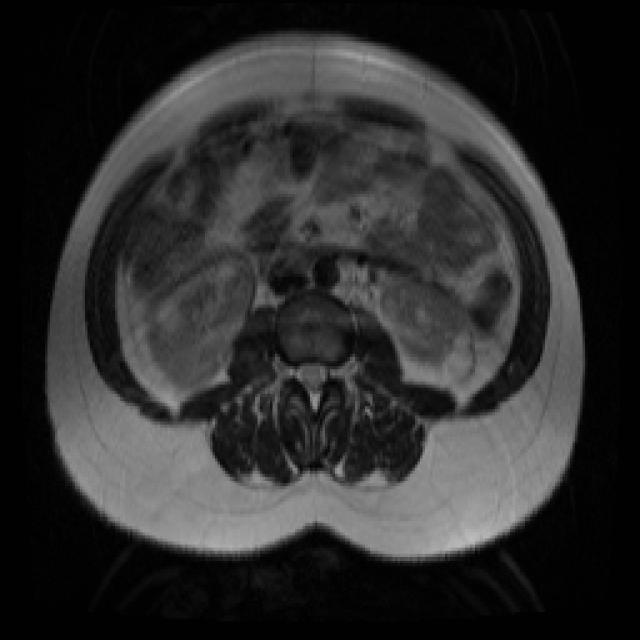sag: (148, 246, 254, 393)
sol: (375, 263, 474, 383)
